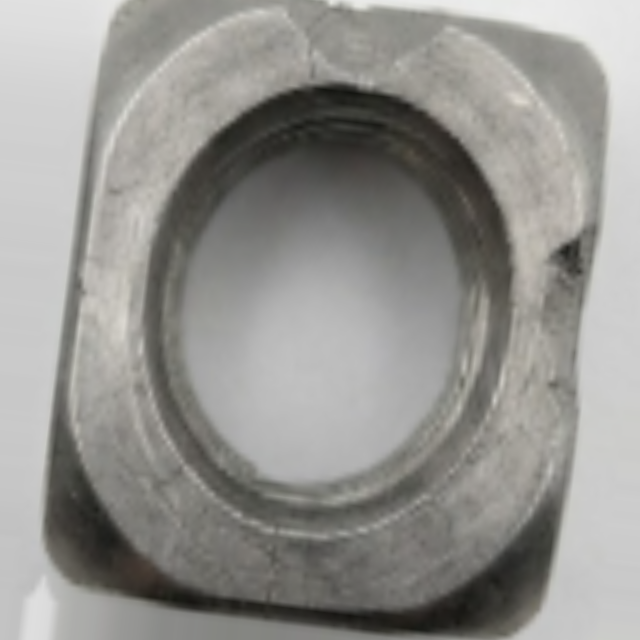defect: (531, 209, 609, 449), (263, 1, 460, 83)
